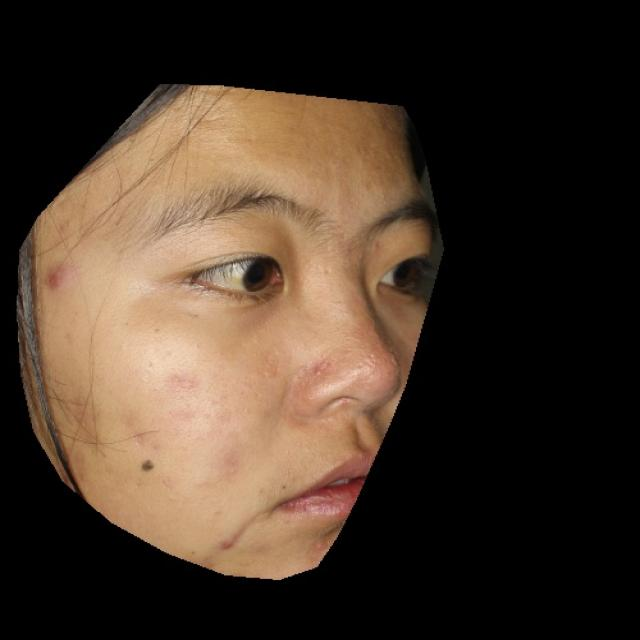nodule: (45, 264, 70, 290)
